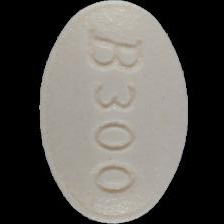53808-0927: (0, 0, 224, 224)
